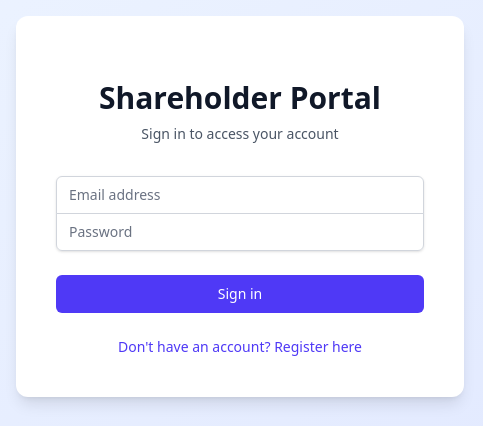
LoginPage › disables submit button while loading
The image size is (483, 426).
Type "test@example.com" into the field labelled "Email address" at (240, 194), box [56,176,424,214]
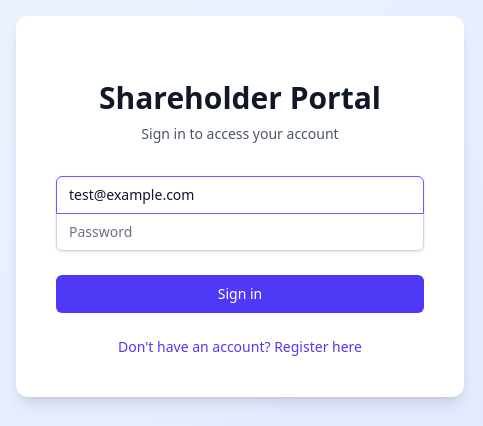
Type "password123" into the password field labelled "Password" at (240, 232), box [56,212,424,250]
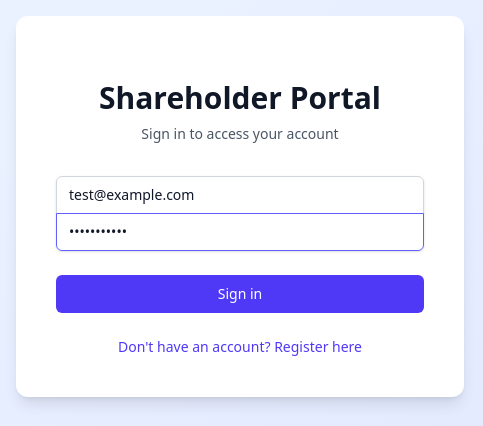
Click the button "Sign in" at (240, 294), box [56,274,424,312]
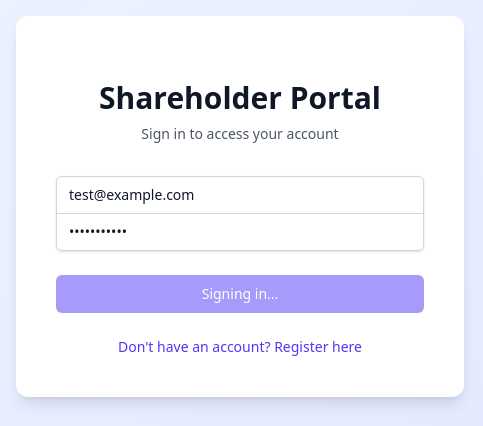
Now the button named "sign in" is disabled, box [56,274,424,312]
